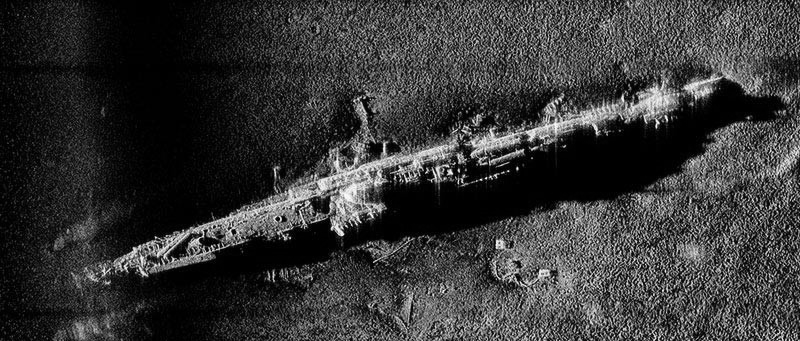ship: (97, 77, 716, 292)
